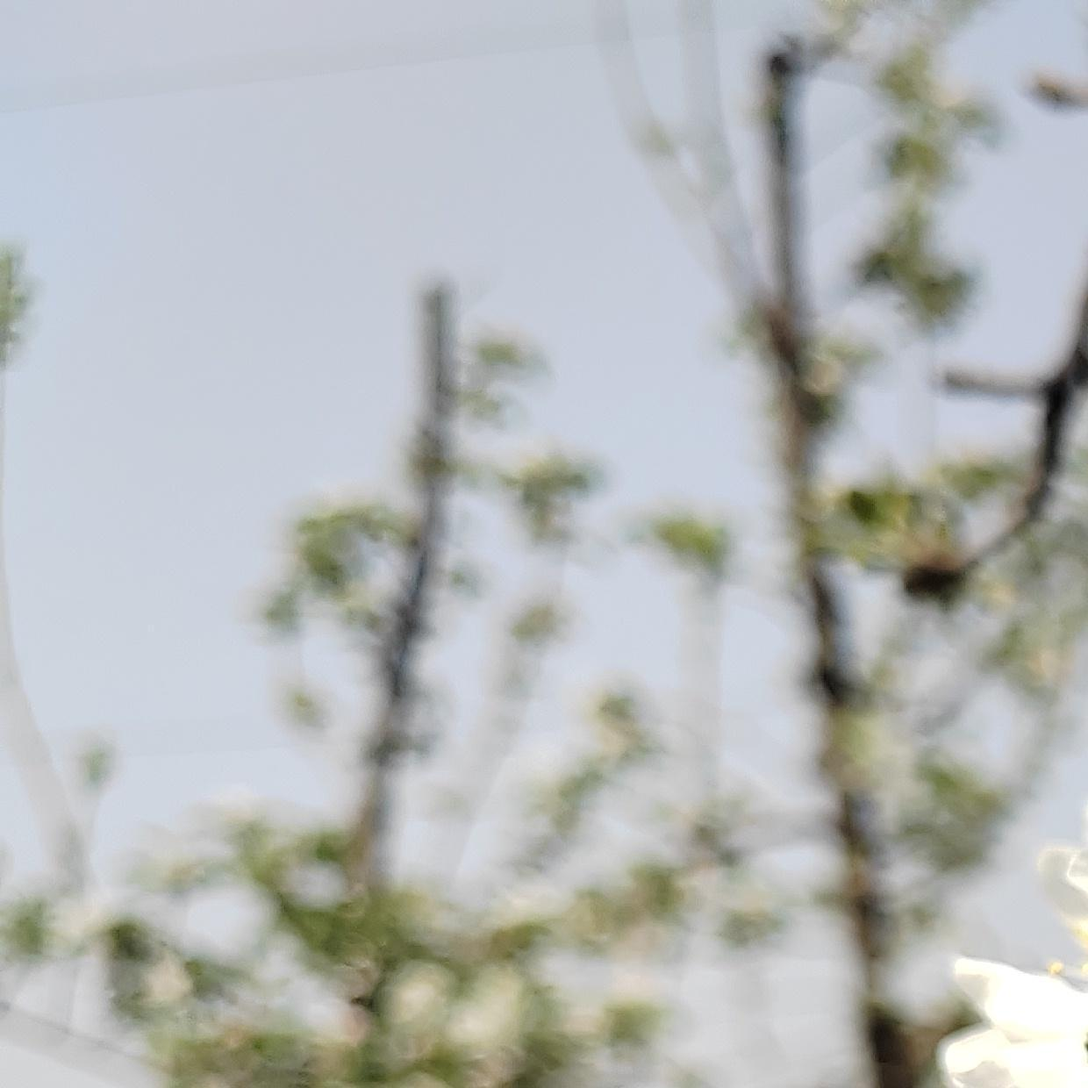apple_flower: (938, 803, 1088, 1088)
